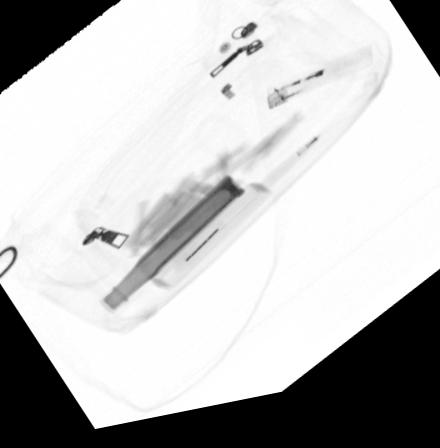Lighter: (265, 57, 373, 122)
